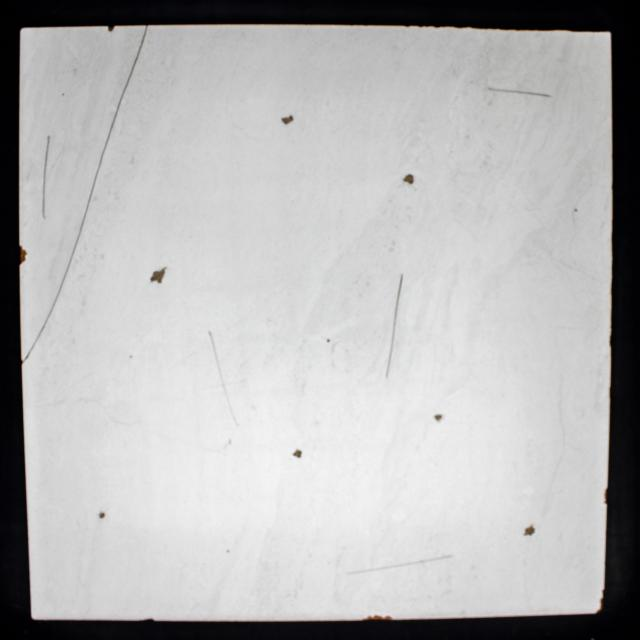edge-chipping: (362, 613, 394, 621), (18, 244, 28, 266), (598, 588, 606, 614), (603, 486, 609, 505), (106, 25, 115, 32)
hole: (150, 266, 167, 284), (523, 524, 537, 538), (280, 114, 295, 126), (402, 173, 416, 185), (292, 448, 302, 459), (433, 413, 443, 422), (97, 511, 107, 519)
line: (207, 329, 238, 424), (345, 554, 454, 576), (384, 273, 404, 379), (100, 93, 124, 162), (124, 26, 148, 91), (21, 321, 46, 363), (83, 163, 101, 220), (65, 222, 83, 276), (41, 134, 51, 220), (488, 85, 552, 98), (47, 277, 64, 318)
